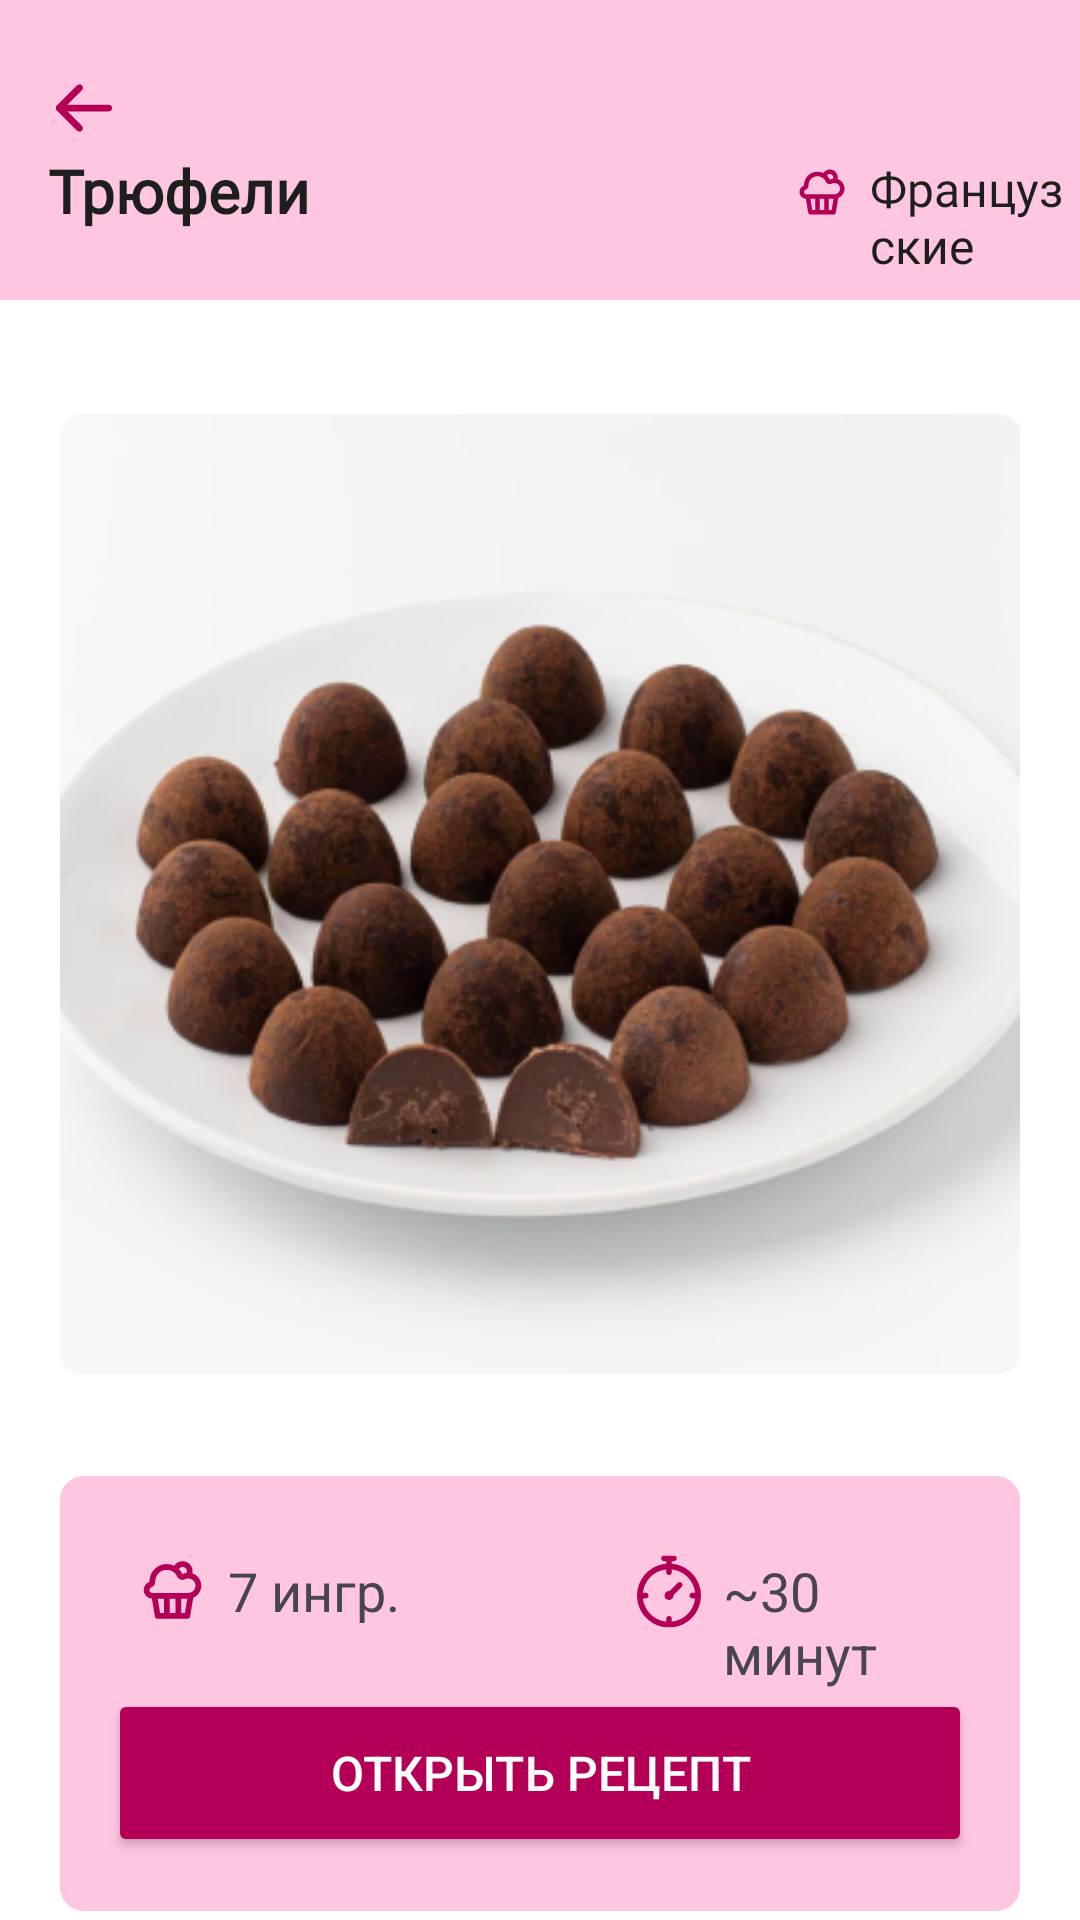

Icons on this 1080 x 1920 Android screen, each with its box as [x1=x1, y1=y1, x2=x2, y2=y2]:
cake: [x1=143, y1=1561, x2=202, y2=1619]
timer: [x1=637, y1=1555, x2=701, y2=1628]
